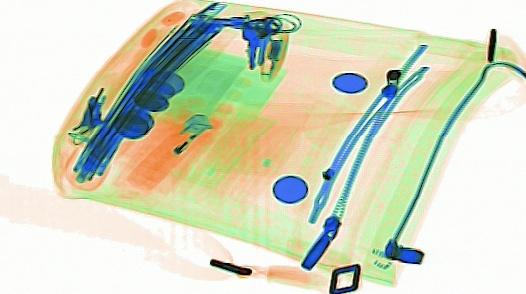lighter: (125, 105, 215, 191)
